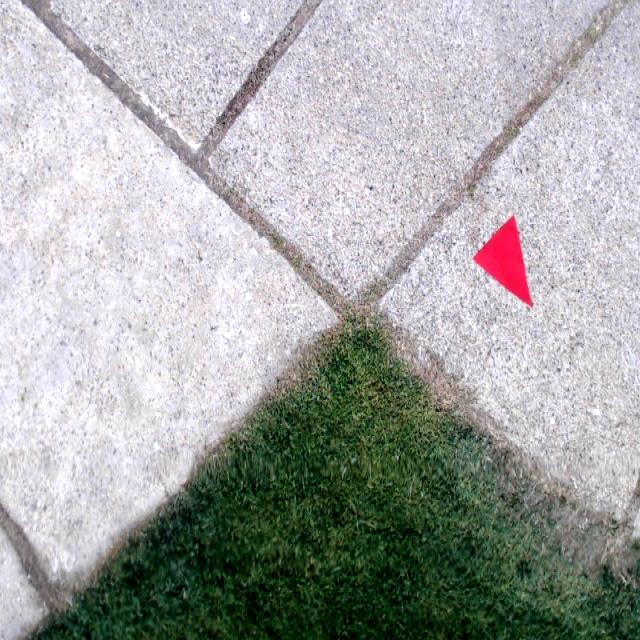red_triangle: (474, 215, 534, 308)
